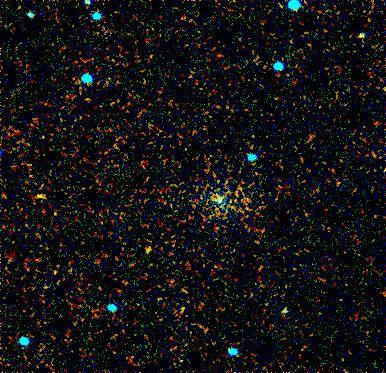star: (139, 238, 169, 268)
